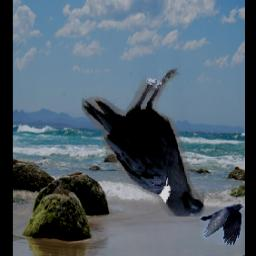Crow: (83, 67, 205, 217), (201, 204, 245, 246)
